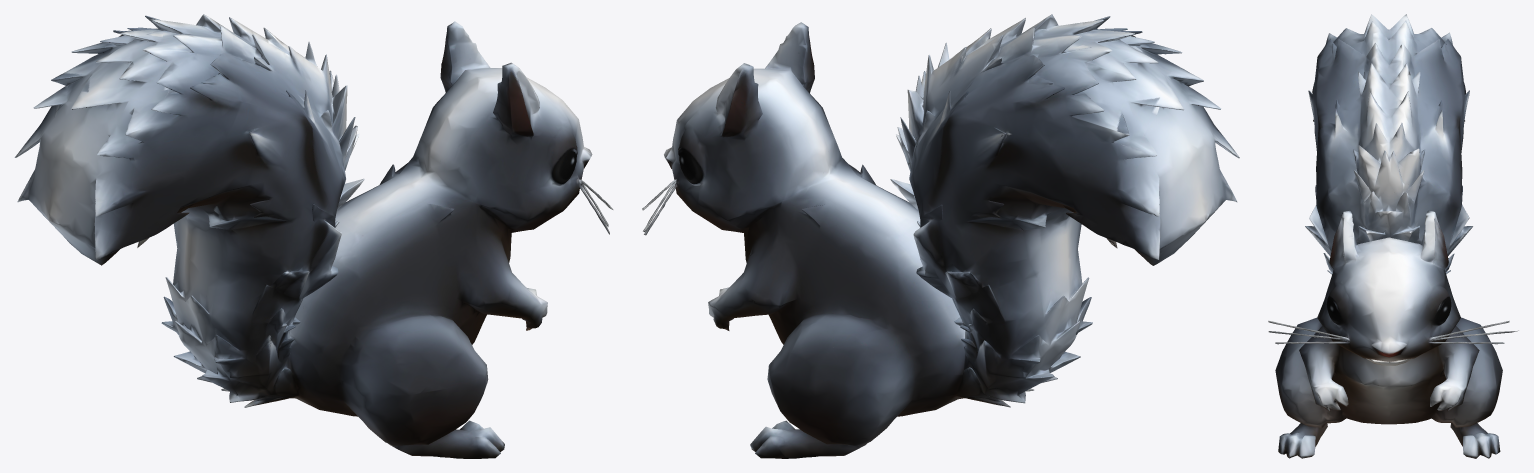
File: squirrel.glb
The picture shows the model from 3 angles, left to right: view 1: azimuth 30°, elevation 25°; view 2: azimuth 150°, elevation 25°; view 3: azimuth 270°, elevation 25°; orthographic projection. The views are drawn at different scales.
Visible parts, largest first — view 1: tripo_node_80ad5bc9-19fe-4c44-886f-5f2929adb80a; view 2: tripo_node_80ad5bc9-19fe-4c44-886f-5f2929adb80a; view 3: tripo_node_80ad5bc9-19fe-4c44-886f-5f2929adb80a.
Part boxes in pixels (x1=…): tripo_node_80ad5bc9-19fe-4c44-886f-5f2929adb80a: x1=14, y1=14, x2=613, y2=458; tripo_node_80ad5bc9-19fe-4c44-886f-5f2929adb80a: x1=642, y1=14, x2=1239, y2=458; tripo_node_80ad5bc9-19fe-4c44-886f-5f2929adb80a: x1=1268, y1=14, x2=1518, y2=458.
Size of the model in its own units: 1 by 0.7838 by 0.5289.
Materials: 1 (1 with a texture image).
